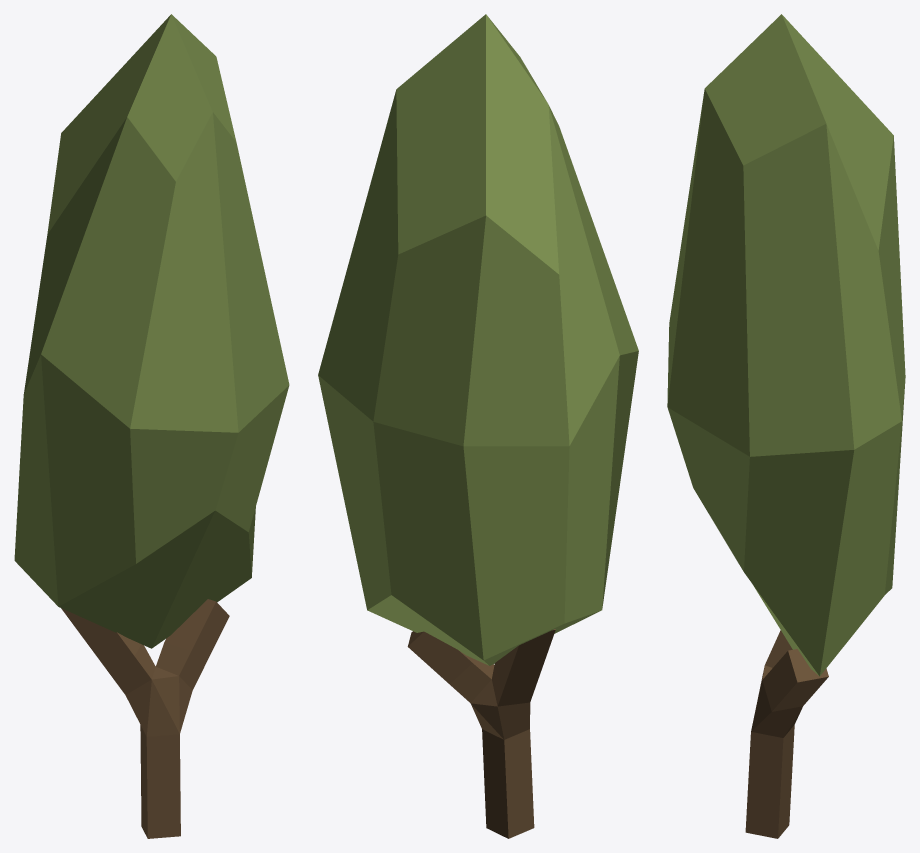
File: cedre.fbx
3 renders of one model, left to right at view 1: azimuth 30°, elevation 25°; view 2: azimuth 150°, elevation 25°; view 3: azimuth 270°, elevation 25°, orthographic.
Visible parts, largest first — view 1: Plan.009; view 2: Plan.009; view 3: Plan.009.
Boxes of the visible parts, left/top/right/bottom form: Plan.009: left=14, top=14, right=289, bottom=838; Plan.009: left=318, top=14, right=638, bottom=838; Plan.009: left=667, top=14, right=905, bottom=838.
Bounding box in the file's own units: 562 × 1655 × 433.
